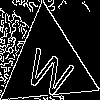W: (22, 38, 80, 100)
